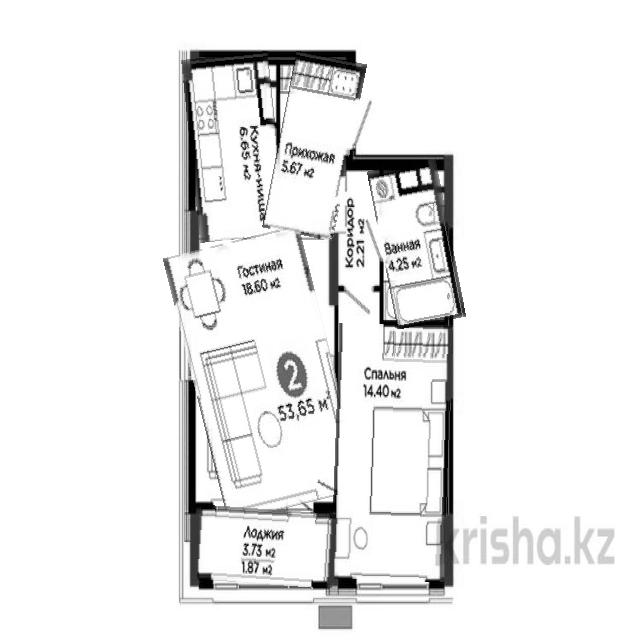balcony: (192, 507, 335, 586)
bathroom: (374, 160, 460, 327)
hallway: (271, 54, 359, 238)
kitchen: (186, 53, 282, 241)
living_room: (178, 232, 350, 516), (333, 324, 451, 581)
